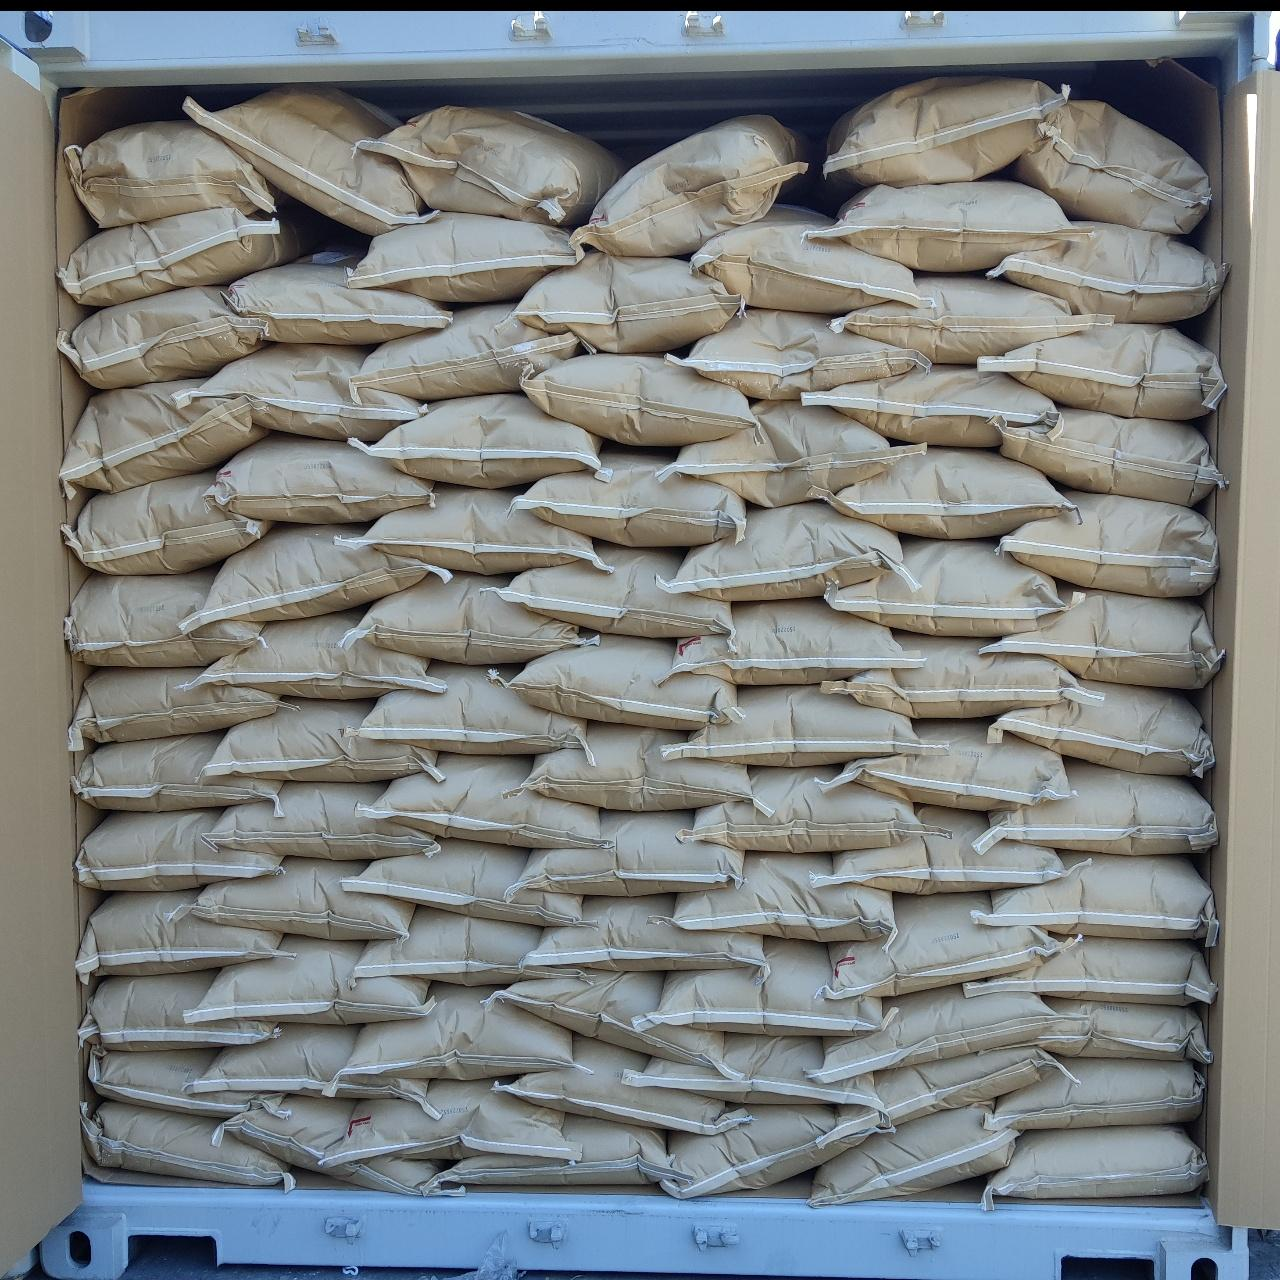sack: (184, 86, 425, 232), (578, 116, 808, 254), (360, 108, 624, 222), (658, 402, 922, 506), (186, 524, 450, 626), (1012, 100, 1208, 230), (824, 894, 1062, 998), (822, 80, 1060, 182), (835, 274, 1108, 362), (59, 207, 300, 306), (810, 181, 1076, 270), (498, 1036, 745, 1130), (822, 634, 1096, 719), (828, 540, 1068, 636), (338, 486, 600, 574), (692, 207, 918, 309), (998, 490, 1216, 595), (672, 308, 926, 399), (668, 504, 912, 598), (978, 324, 1223, 416), (988, 224, 1224, 320), (976, 760, 1214, 855), (356, 394, 600, 486), (190, 1026, 440, 1116), (988, 588, 1218, 686), (60, 380, 263, 490), (648, 938, 880, 1034), (812, 804, 1065, 892), (810, 986, 1050, 1078), (484, 972, 724, 1064), (516, 252, 740, 350), (192, 343, 424, 438), (354, 304, 586, 399), (343, 983, 574, 1078), (515, 445, 742, 542), (974, 852, 1214, 942), (663, 686, 932, 765), (666, 598, 912, 685), (501, 544, 730, 636), (524, 354, 756, 445), (372, 754, 600, 846), (828, 720, 1070, 806), (200, 610, 440, 697), (826, 448, 1068, 535), (1000, 408, 1223, 502), (352, 212, 583, 302), (70, 122, 274, 224), (226, 248, 448, 342), (340, 840, 583, 926), (66, 472, 268, 574), (354, 574, 588, 662), (326, 1080, 574, 1162), (192, 937, 430, 1022), (60, 288, 263, 388), (506, 724, 753, 806), (510, 636, 736, 726), (350, 663, 583, 750), (672, 852, 894, 942), (990, 682, 1210, 774), (686, 765, 915, 852), (804, 366, 1054, 445), (80, 890, 292, 983), (812, 1107, 1016, 1204), (216, 1096, 425, 1190), (172, 858, 410, 940), (658, 1107, 874, 1196), (835, 1048, 1060, 1133), (206, 700, 440, 782), (215, 434, 430, 522), (82, 1099, 294, 1189), (515, 812, 740, 894), (434, 1116, 690, 1186), (70, 570, 263, 662), (204, 782, 436, 858), (354, 906, 586, 982), (526, 896, 762, 971), (626, 1036, 876, 1104), (72, 668, 280, 748), (966, 938, 1214, 1005), (79, 810, 282, 890), (74, 731, 278, 810), (986, 1126, 1206, 1198), (79, 971, 278, 1048), (990, 1058, 1201, 1126), (90, 1050, 286, 1118), (1034, 1000, 1210, 1062)
